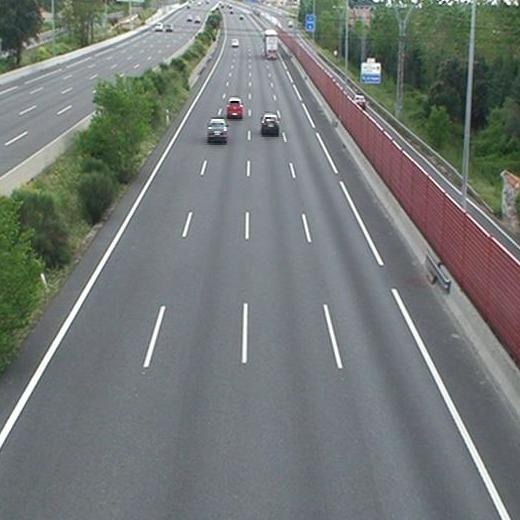car: (208, 119, 226, 141), (261, 116, 280, 132), (227, 99, 243, 118), (232, 36, 240, 48)
truck: (263, 29, 278, 60)
